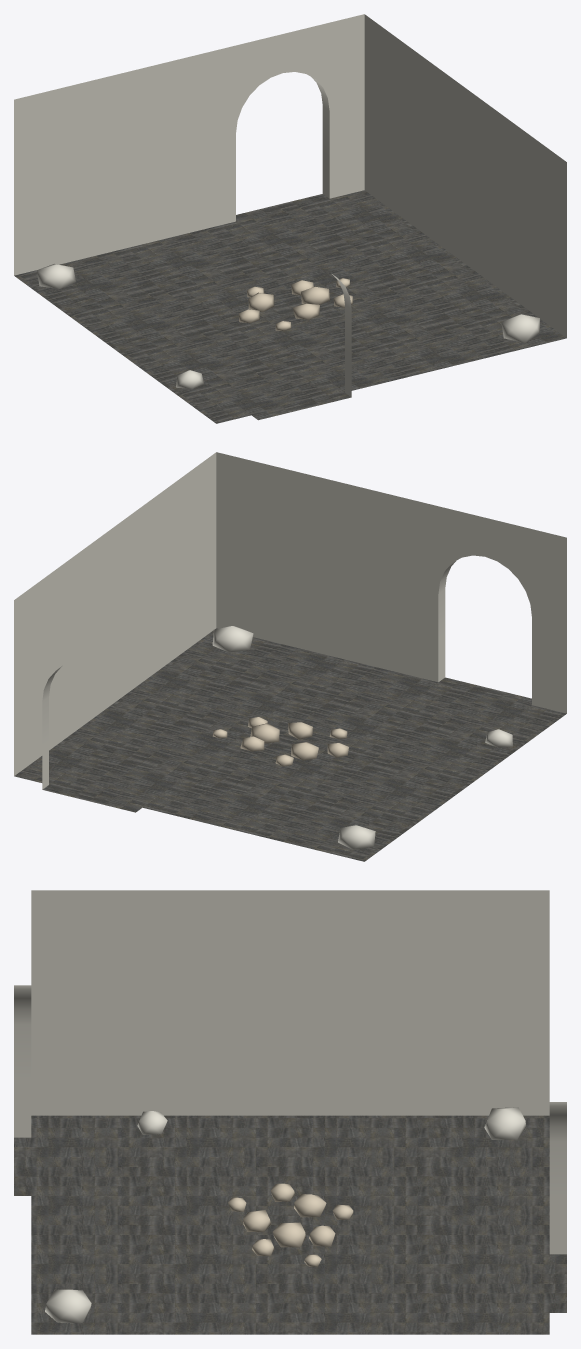
File: plague-pit.756646b0.gltf
3 renders of one model, top to bottom at view 1: azimuth 30°, elevation 25°; view 2: azimuth 150°, elevation 25°; view 3: azimuth 270°, elevation 25°, orthographic. The views are drawn at different scales.
Parts seen in each view (by area): view 1: plague-pit-mesh, plague-pit-props; view 2: plague-pit-mesh, plague-pit-props; view 3: plague-pit-mesh, plague-pit-props.
Boxes of the visible parts, x1=… form: plague-pit-mesh: x1=14, y1=14, x2=566, y2=423; plague-pit-props: x1=238, y1=277, x2=353, y2=330; plague-pit-mesh: x1=14, y1=452, x2=566, y2=861; plague-pit-props: x1=213, y1=717, x2=348, y2=766; plague-pit-mesh: x1=14, y1=890, x2=566, y2=1334; plague-pit-props: x1=228, y1=1183, x2=353, y2=1266.
Size of the model in its own units: 7.5 by 3.74 by 8.
Materials: 3 (1 with a texture image).
